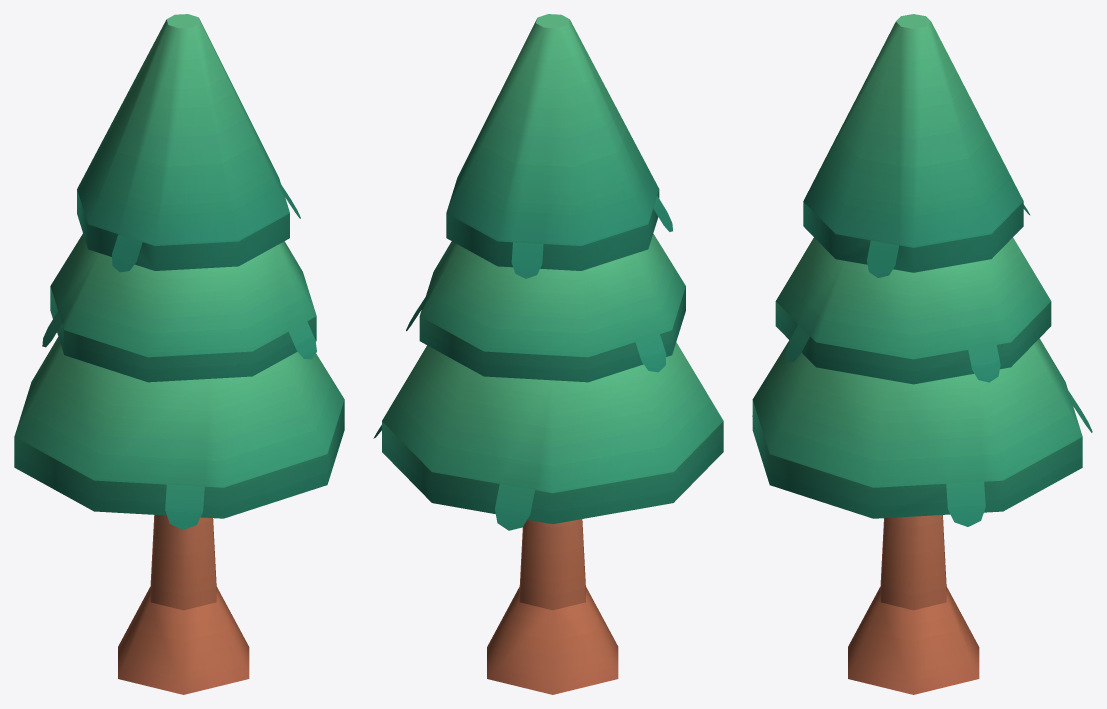
Rendered from tree-large.glb.
3 renders of one model, left to right at view 1: azimuth 30°, elevation 25°; view 2: azimuth 150°, elevation 25°; view 3: azimuth 270°, elevation 25°, orthographic.
Parts seen in each view (by area): view 1: tree-large; view 2: tree-large; view 3: tree-large.
Boxes of the visible parts, x1,y1,x2,y2 form: tree-large: (14,14,344,694); tree-large: (373,14,723,694); tree-large: (752,14,1092,694).
Bounding box in the file's own units: 0.8886 × 1.85 × 0.8897.
Materials: 1 (1 with a texture image).
